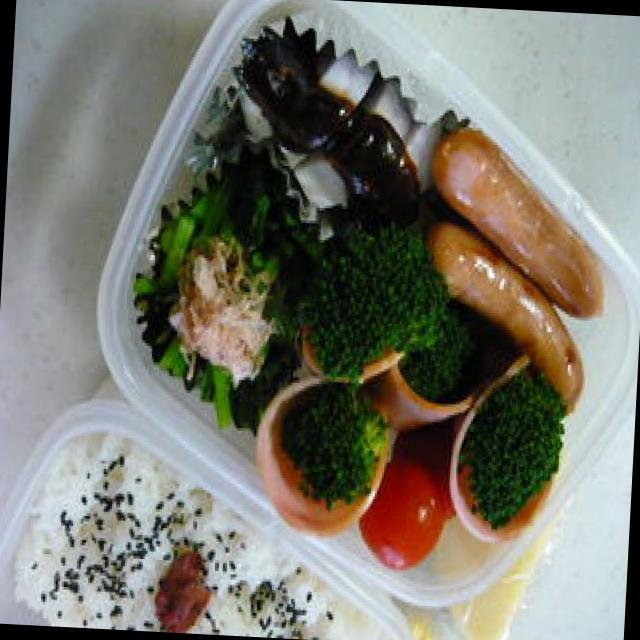Sausage: (422, 121, 614, 391)
